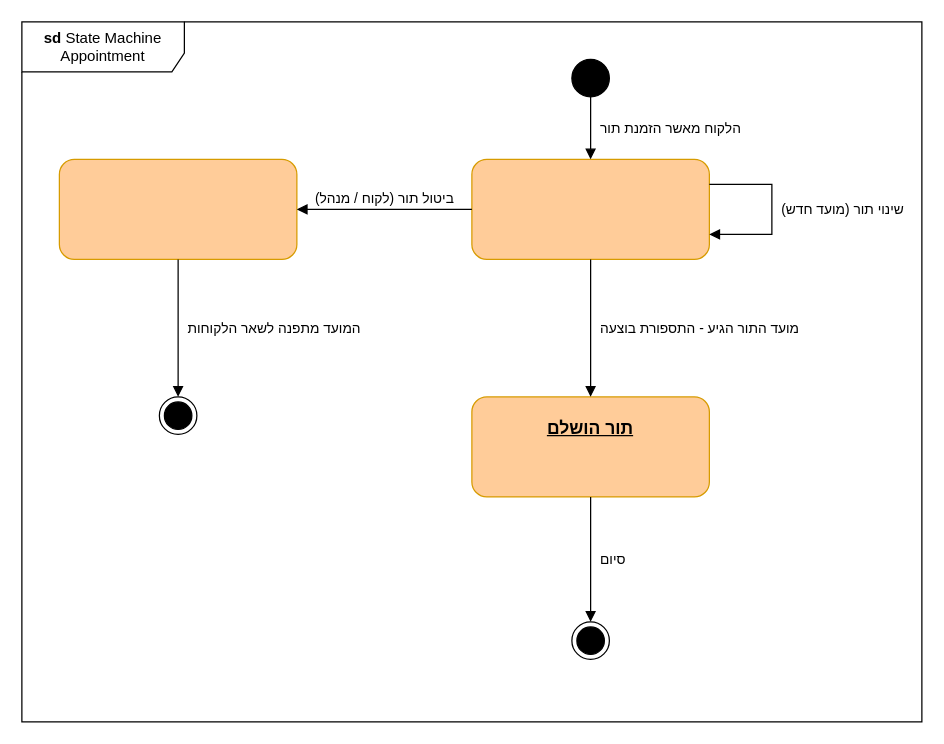
The diagram is 944 pixels wide and 744 high, and some of its shapes have lost their labels. The centre of each missing label's shape, as x and y in pixels:
תור בוטל: [177,208]
תור נקבע: [590,208]
